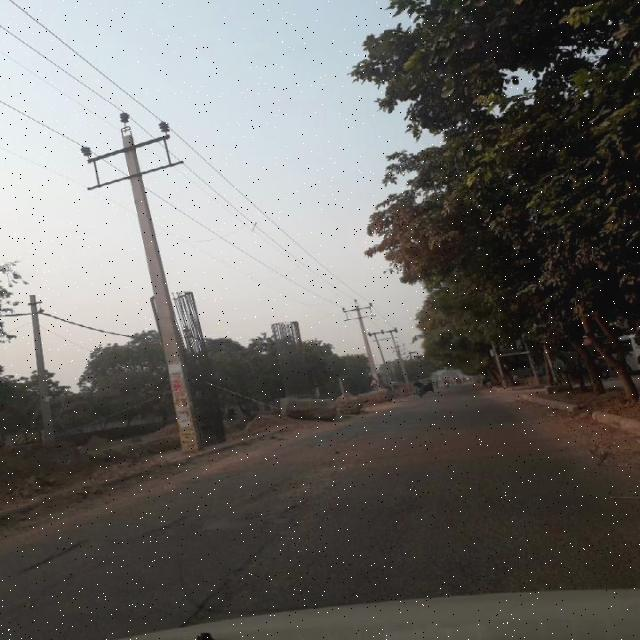D00: (168, 531, 269, 613), (1, 513, 80, 605)
D40: (229, 447, 367, 547)
